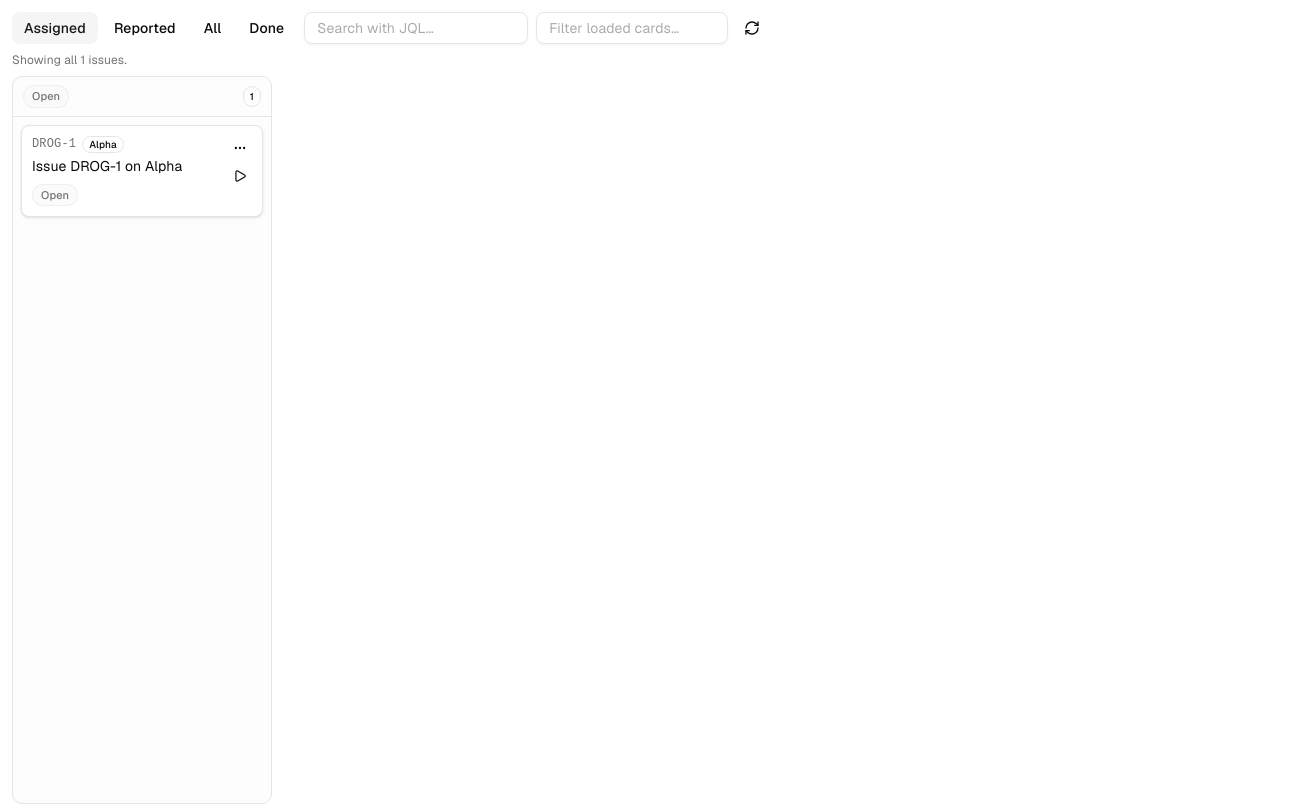
Test: JiraKanbanBoard › restores the card and surfaces the reason on a 403 rejection
Expected: the list item "DROG-1 Alpha Issue DROG-1 on Alpha Open" is shown, [21, 124, 263, 217]
Step 1. Click the button named "Transitions for DROG-1" → point(240, 148), box [228, 136, 252, 160]
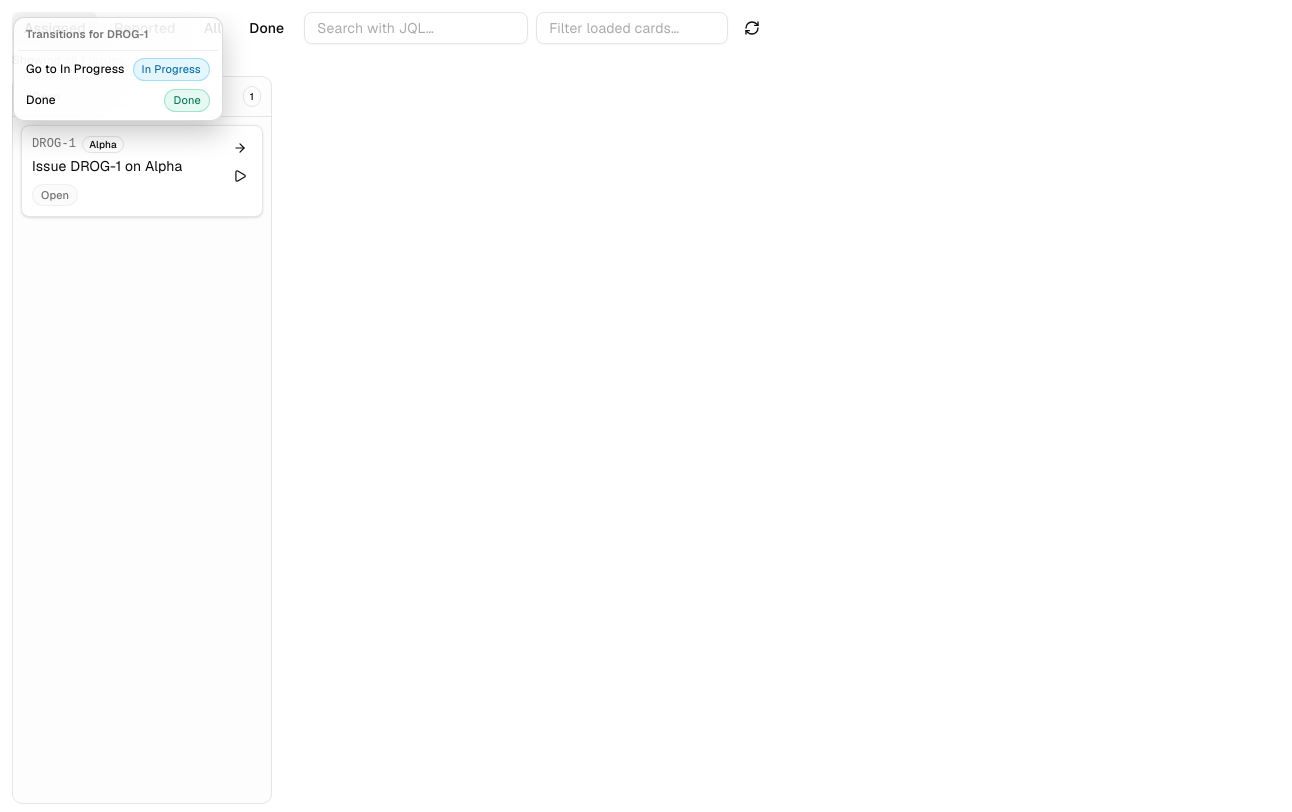
Result: the menu item "Go to In Progress In Progress" is shown
Step 2. Click the menu item "Go to In Progress In Progress" → point(118, 69), box [18, 54, 218, 84]
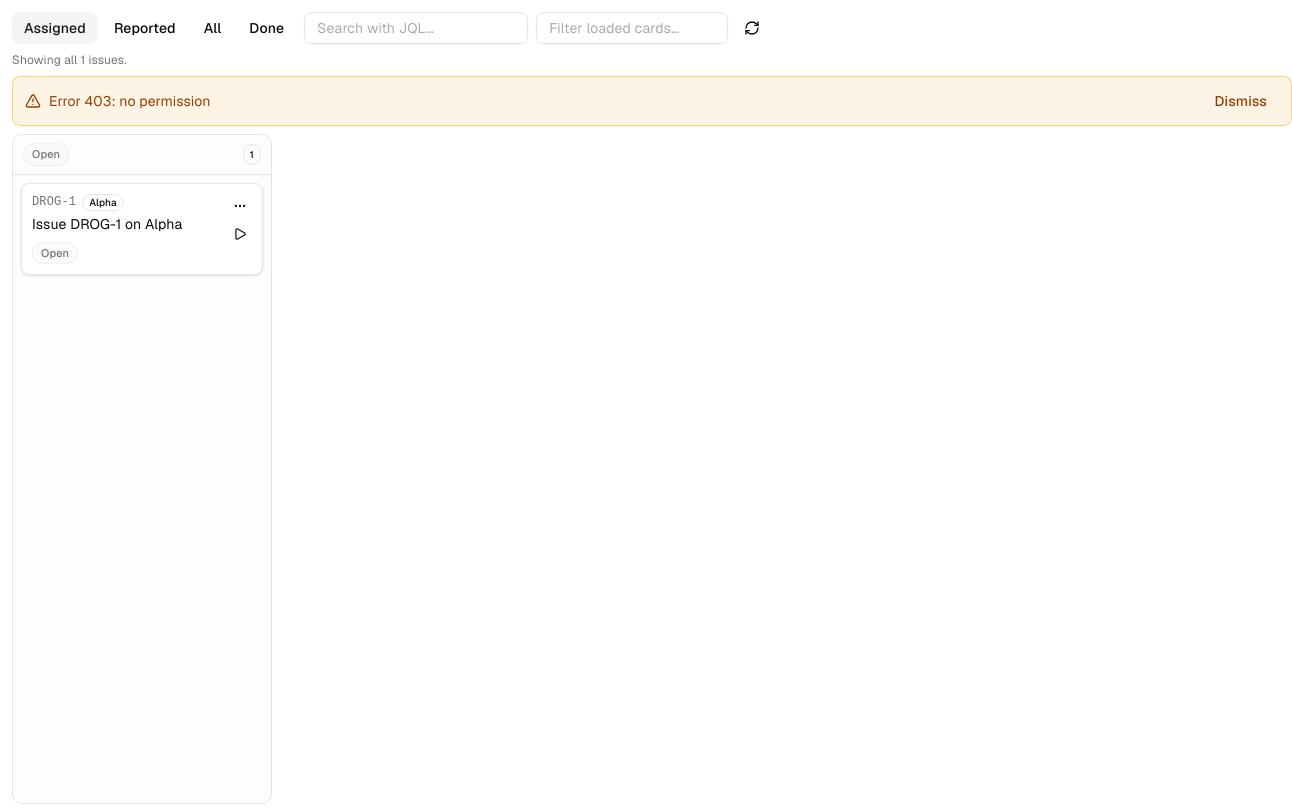
Expected: the text "Open" below "Issue DROG-1 on Alpha" is shown, [41, 246, 69, 260]
Result: the text "Error 403: no permission" is shown at [49, 91, 211, 111]
